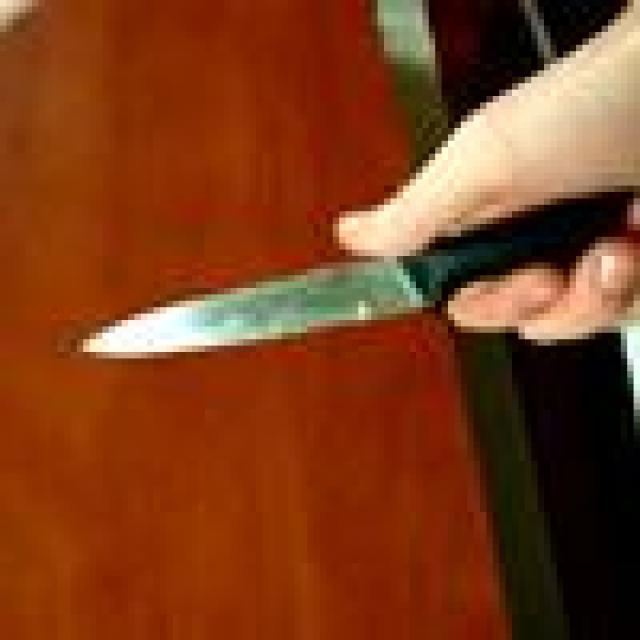faca: (57, 109, 640, 365)
